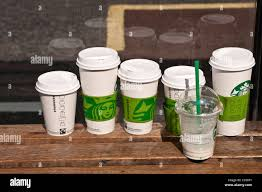cup: (77, 43, 120, 135), (119, 53, 160, 135), (36, 68, 80, 137)
